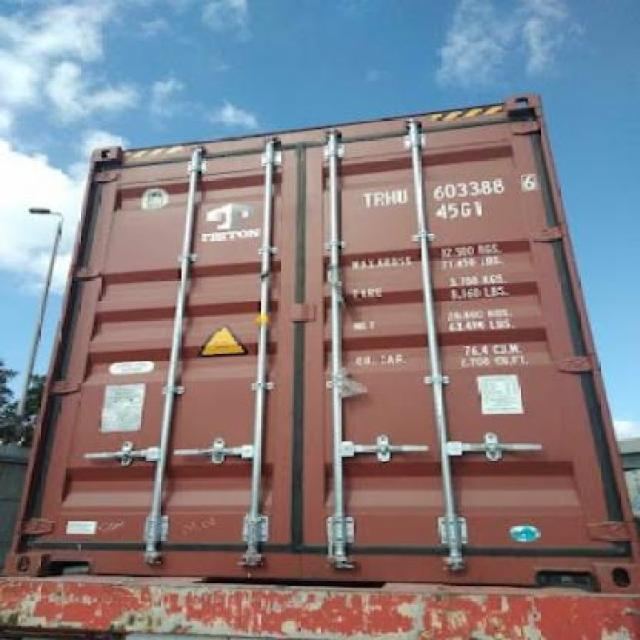ISO: (434, 200, 486, 220)
container_number: (362, 176, 533, 201)
